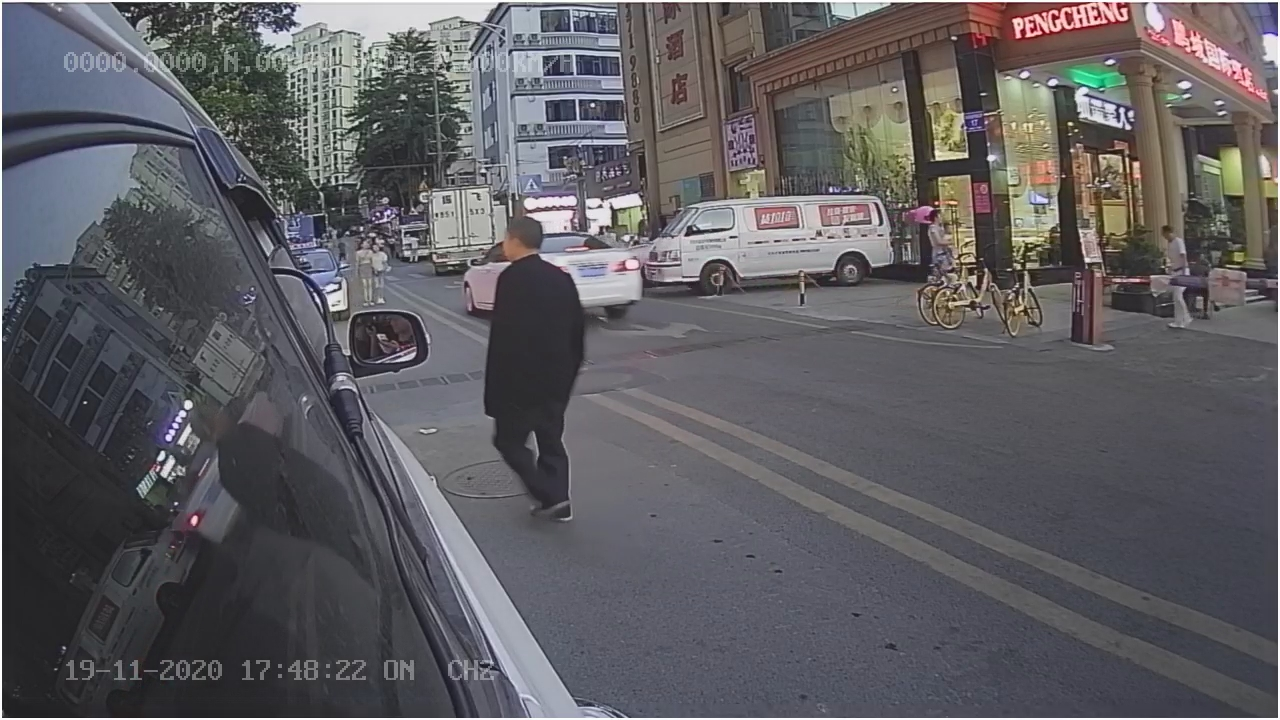person: (481, 209, 588, 529)
